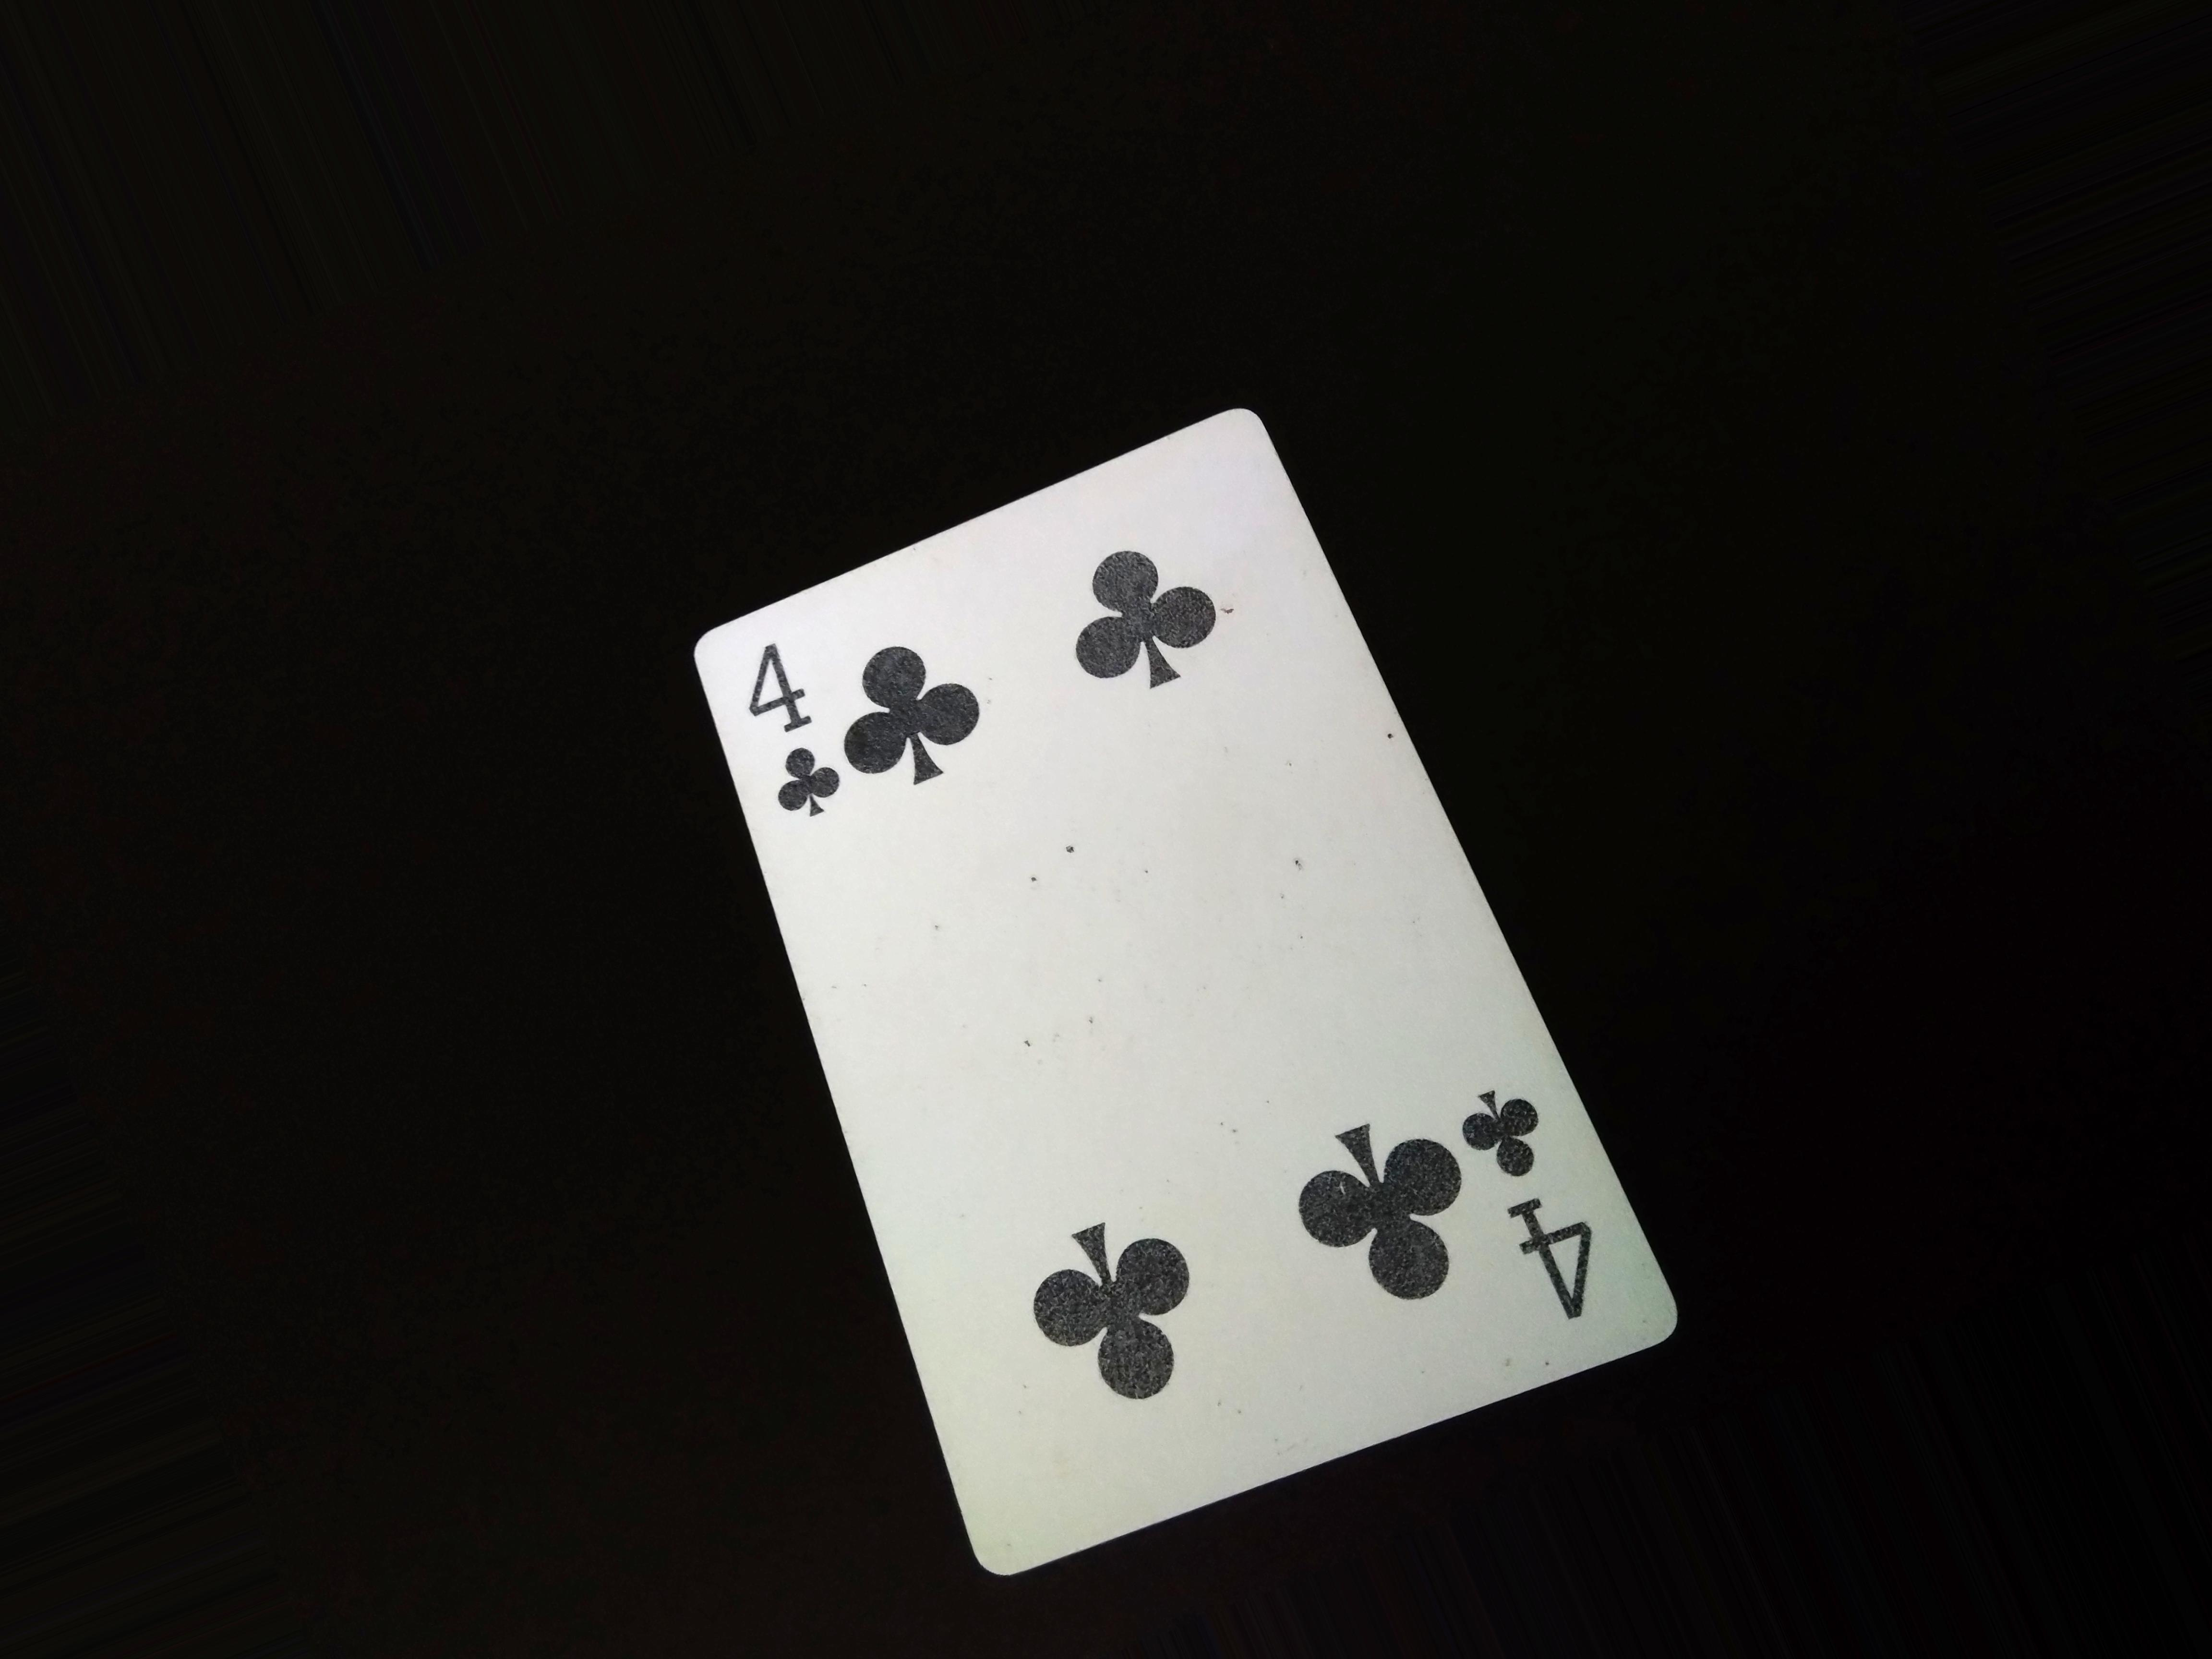4C: (1467, 1082, 1613, 1345)
